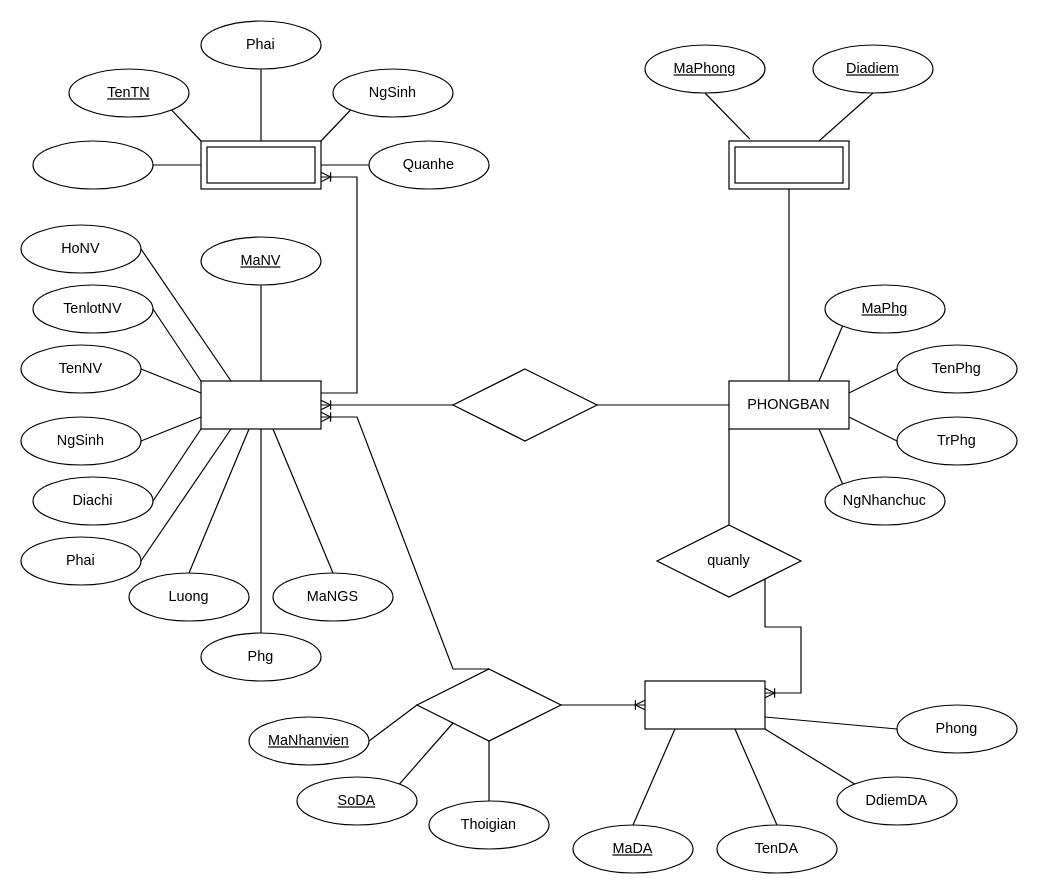
The diagram is 1038 pixels wide and 894 high, and some of its shapes have lost their labels. The centre of each missing label's shape, as x and y in pixels:
"DEAN" goes at (704,704).
"DIADIEM_PHG" goes at (788,164).
"MaNVien" goes at (92,164).
"NHANVIEN" goes at (260,404).
"PHANCONG" goes at (488,704).
"THANNHAN" goes at (260,164).
"thuoc" goes at (524,404).
